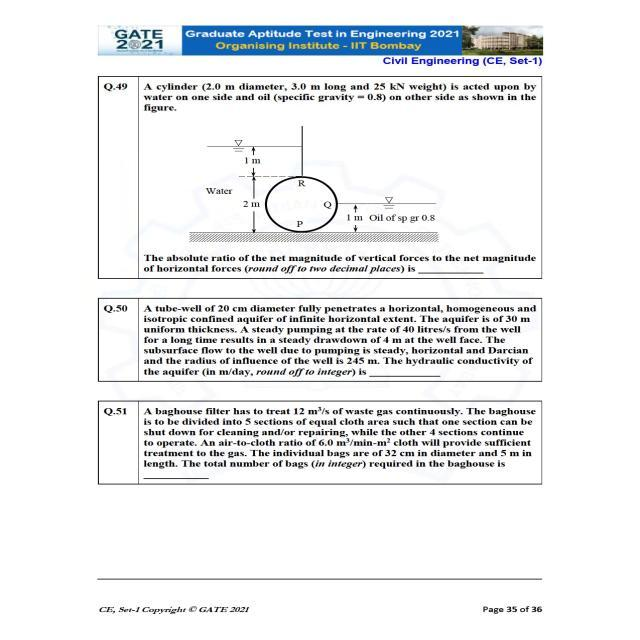Question_Answer_Block: (98, 75, 544, 279), (95, 297, 542, 383), (98, 400, 540, 484)
Question_Block: (96, 75, 544, 279), (96, 298, 544, 382), (96, 400, 544, 482)
Question_Paper_Area: (96, 72, 544, 486)
